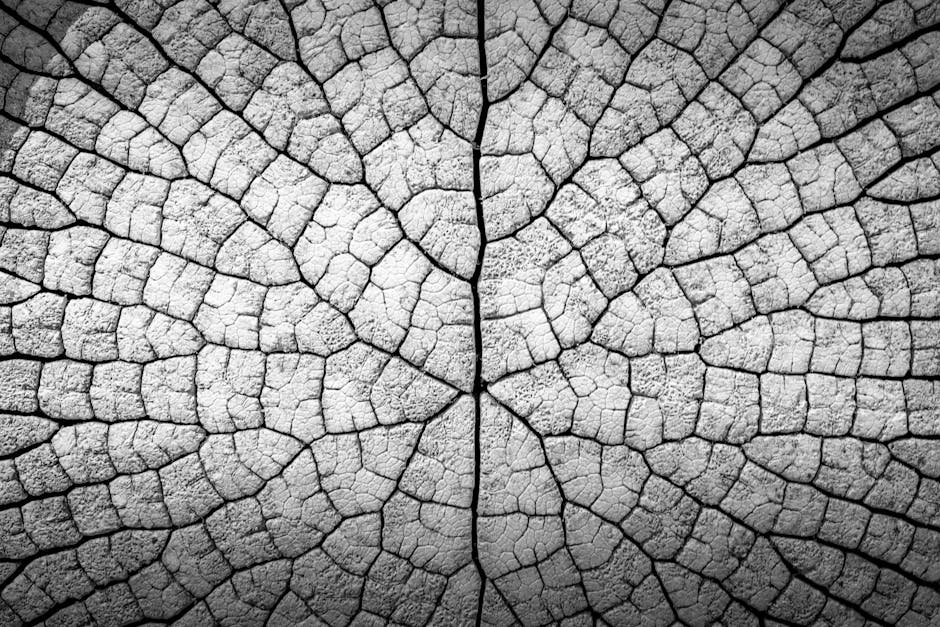深大裂缝: (452, 4, 497, 613)
细微裂纹: (583, 535, 862, 612), (94, 547, 335, 598), (21, 475, 159, 505)
网状裂隙: (4, 7, 425, 446), (534, 10, 905, 493)
